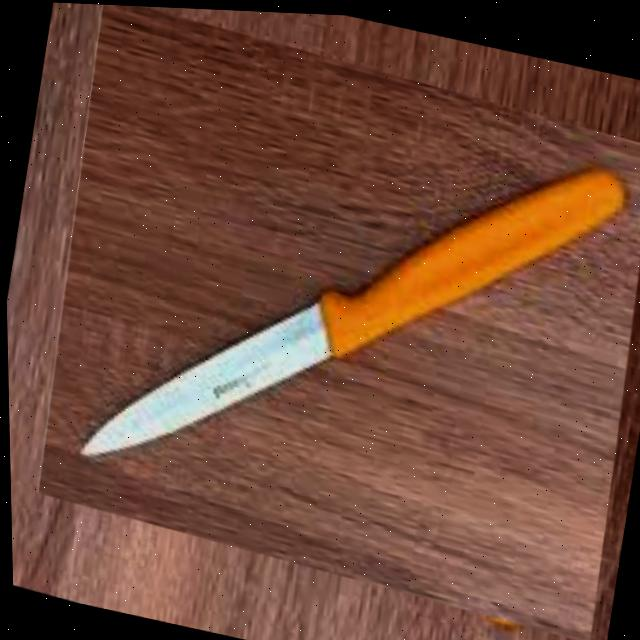knife: (20, 1, 640, 640)
